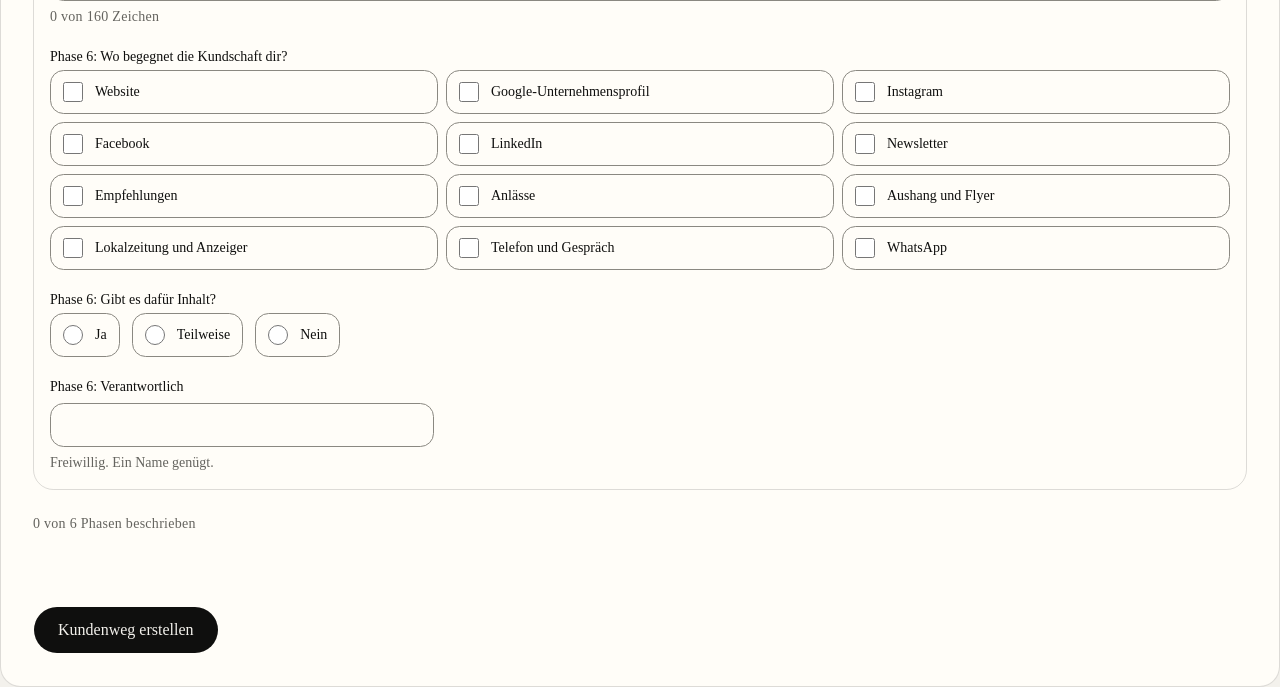
Kundenweg-Mapper: Formular › meldet ein leeres Formular in einer Meldung (role alert), fragt nicht nach der Adresse und schickt nichts
(page scrolled)
Click the button "Kundenweg erstellen": (126, 630) [33,606,218,654]
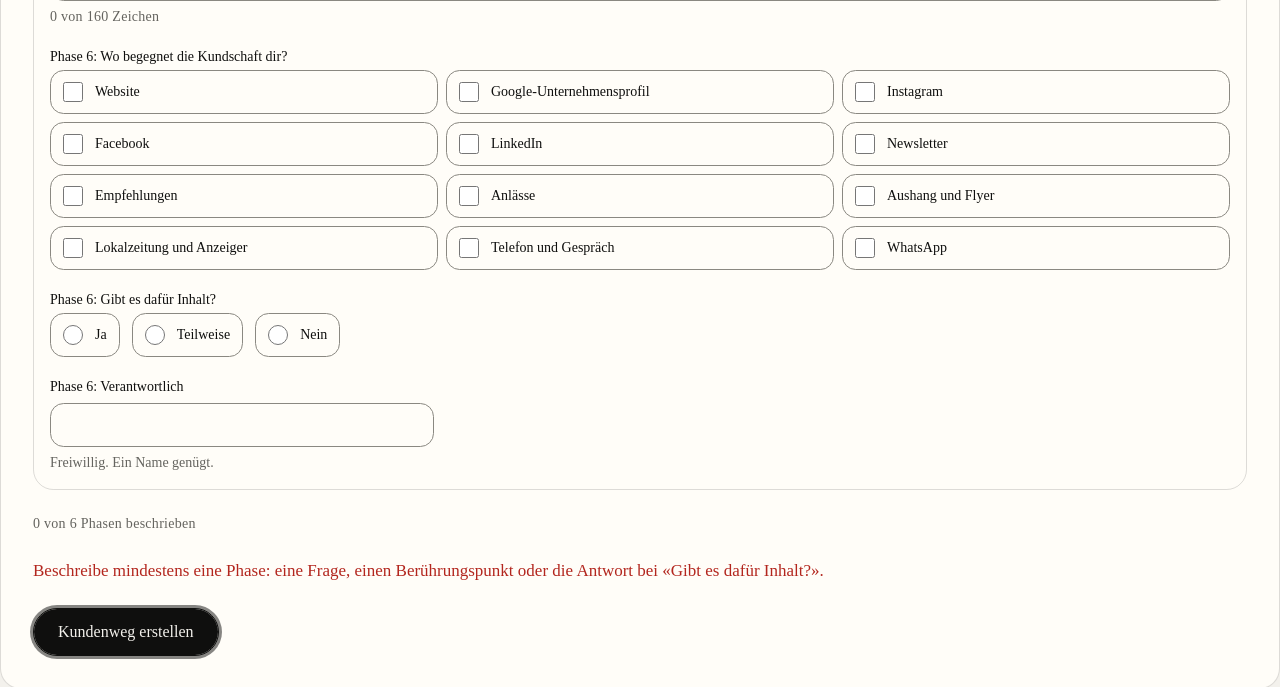
Expected: the 2nd message shows "Beschreibe mindestens eine Phase", [33,561,824,580]
